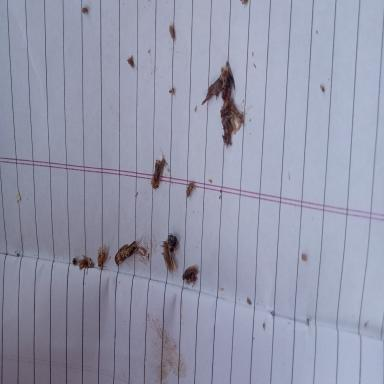pbw: (114, 237, 140, 266), (155, 241, 176, 273), (150, 157, 164, 189), (182, 264, 199, 288), (77, 254, 94, 275), (95, 243, 108, 269), (186, 181, 196, 198), (169, 24, 175, 42), (126, 55, 134, 68)
